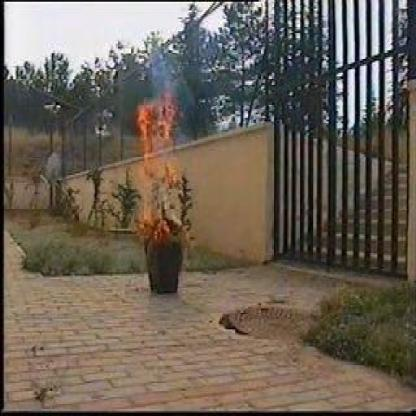foggia-v2-map80-epoch100 - v1 4323: (136, 98, 182, 242)
